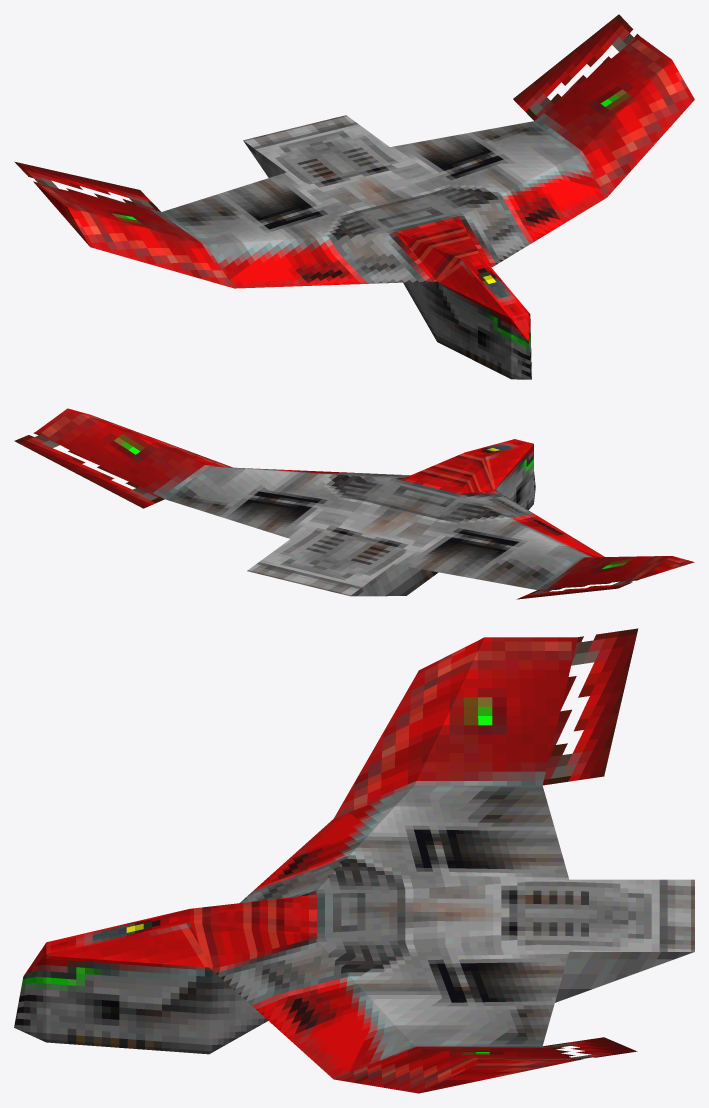
3 renders of one model, top to bottom at view 1: azimuth 30°, elevation 25°; view 2: azimuth 150°, elevation 25°; view 3: azimuth 270°, elevation 25°, orthographic. The views are drawn at different scales.
Parts seen in each view (by area): view 1: Ovmp_obj_041; view 2: Ovmp_obj_041; view 3: Ovmp_obj_041.
Part boxes in pixels (bbox=[...]): Ovmp_obj_041: bbox=[14, 14, 694, 379]; Ovmp_obj_041: bbox=[14, 408, 694, 599]; Ovmp_obj_041: bbox=[14, 628, 694, 1093].
Bounding box in the file's own units: 3.15 × 0.6836 × 2.14.
1 material, 1 textured.
